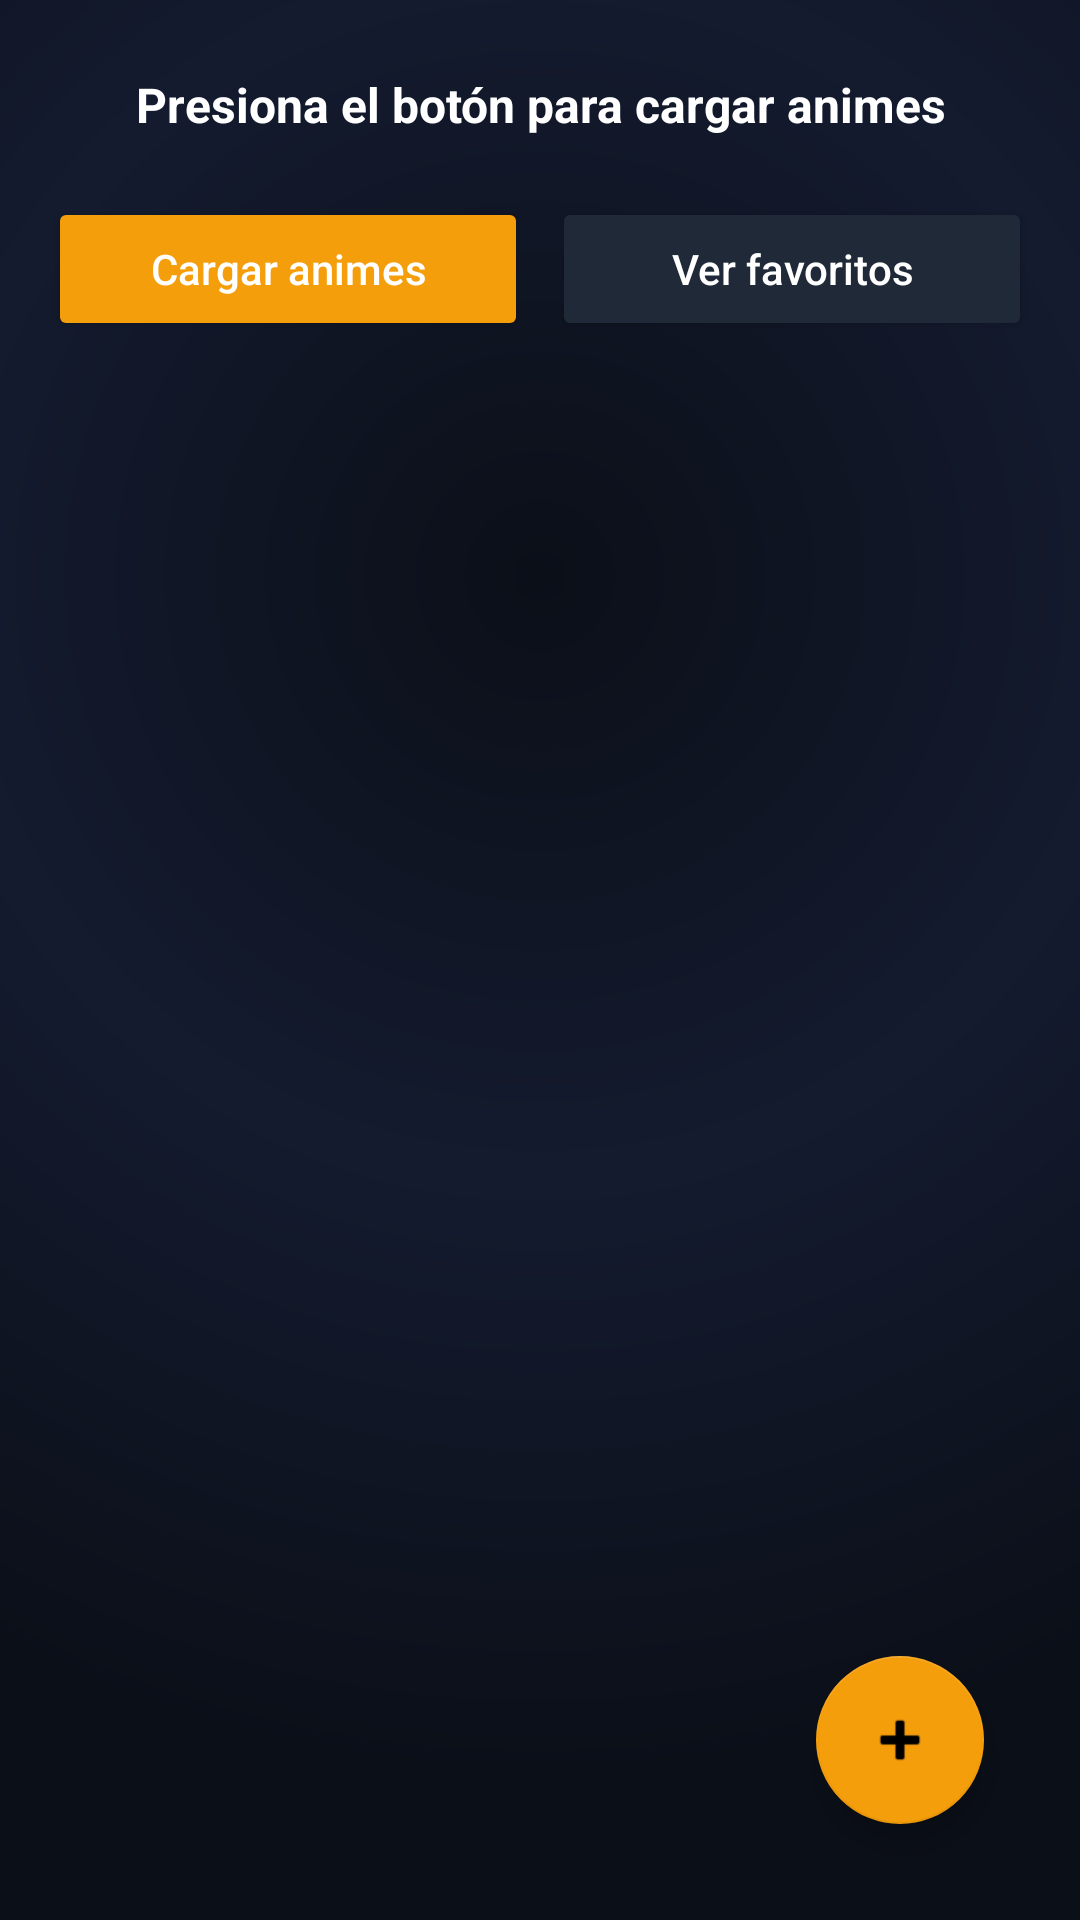

Icons on this 1080 × 1920 Android screen, each with the point to tap as [x,y]:
Agregar anime: [900,1740]
